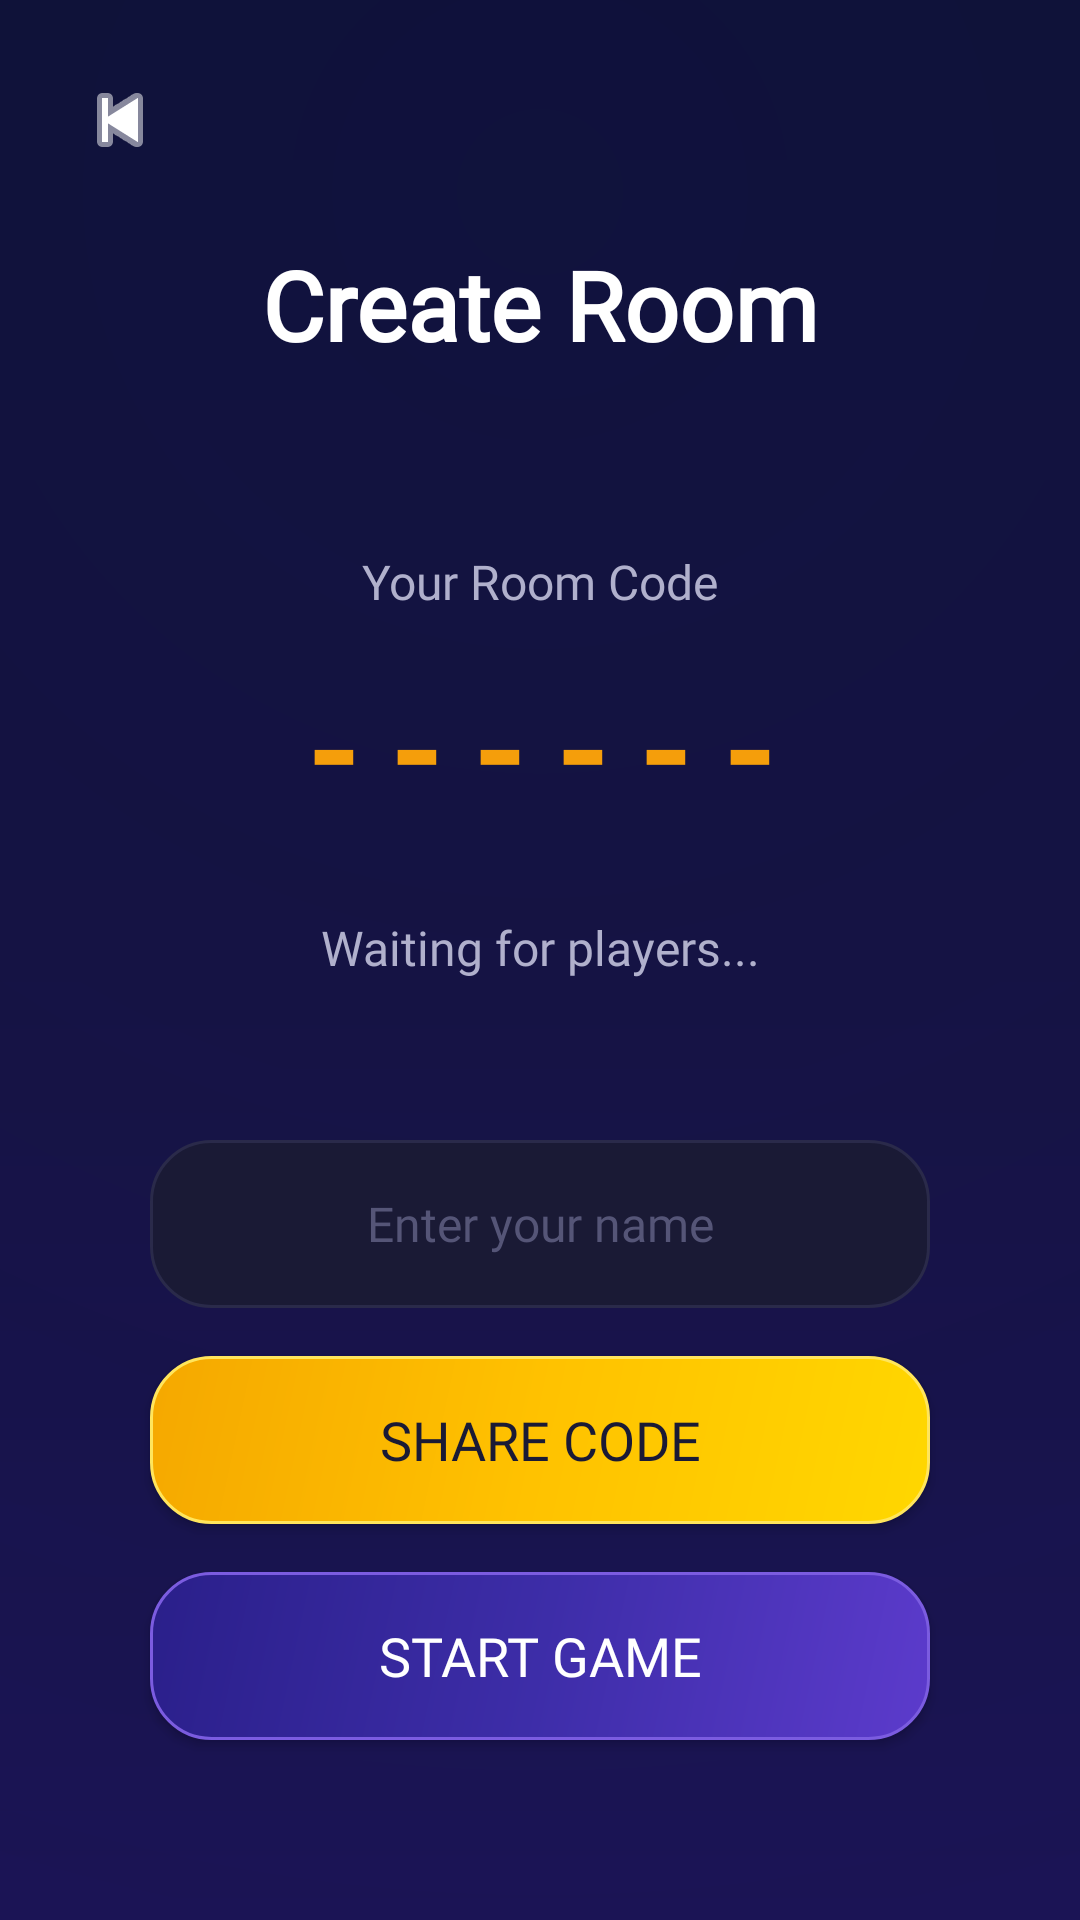

Named icons in this screenshot (1080×1920) and their bounding boxes, {"left": x1, "top": y1, "right": x2, "bottom": y2}:
previous: {"left": 97, "top": 93, "right": 143, "bottom": 147}
